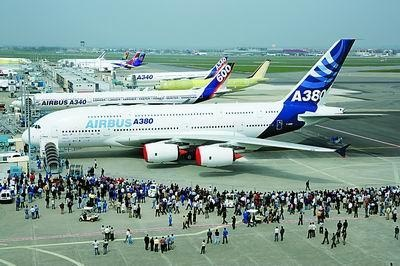airplane: (19, 37, 386, 166), (124, 55, 232, 85), (52, 48, 152, 69)
